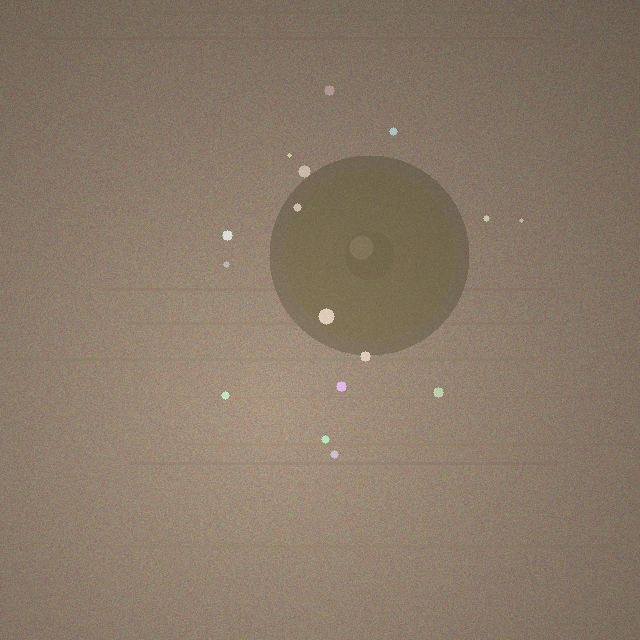overburn: (269, 155, 469, 355)
